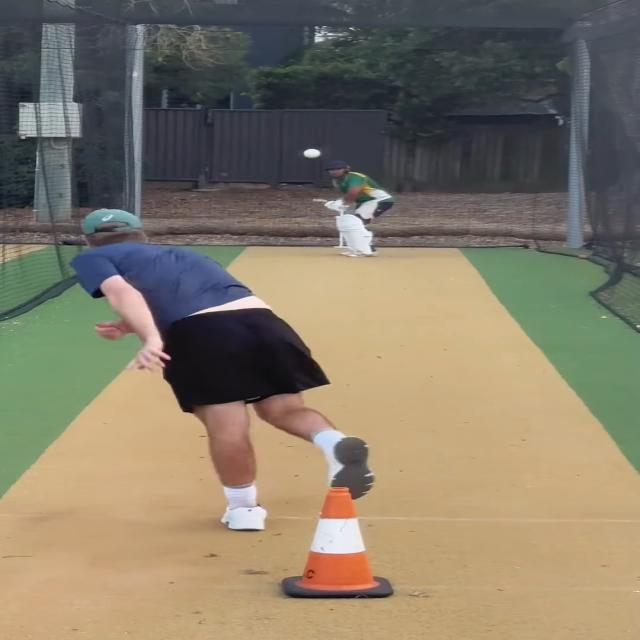ball: (300, 146, 324, 160)
stump: (274, 461, 406, 601)
